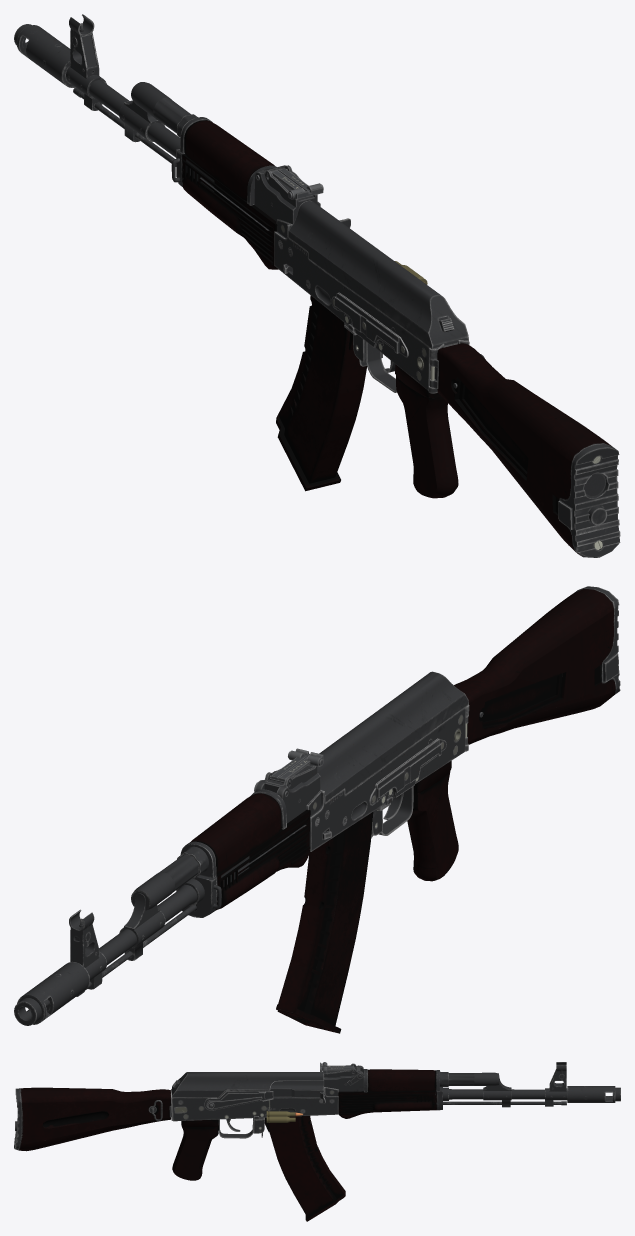
3 renders of one model, top to bottom at view 1: azimuth 30°, elevation 25°; view 2: azimuth 150°, elevation 25°; view 3: azimuth 270°, elevation 25°, orthographic. The views are drawn at different scales.
Visible parts, largest first — view 1: Stock_lowT, Magazine_lowT, ReceiverCover_lowT, Handle_lowT, Receiver_lowT, GasOutletPipe_lowT, Forend_lowT, Barrel2_lowT, IronsightFront_lowT, Barrel1_lowT, Forend1_lowT, SightBlock_lowT (+4 smaller); view 2: Stock_lowT, Magazine_lowT, ReceiverCover_lowT, Receiver_lowT, GasOutletPipe_lowT, Handle_lowT, Forend_lowT, Barrel2_lowT, Barrel1_lowT, Forend1_lowT, SightBlock_lowT, IronsightFront_lowT (+5 smaller); view 3: Stock_lowT, Magazine_lowT, Receiver_lowT, ReceiverCover_lowT, Forend_lowT, Handle_lowT, GasOutletPipe_lowT, Barrel2_lowT, Forend1_lowT, Shutter_lowT, Barrel1_lowT, ModeSwitch_lowT (+5 smaller).
Part boxes in pixels (<box>): Stock_lowT: <box>437,343,620,557</box>; Magazine_lowT: <box>276,295,366,491</box>; ReceiverCover_lowT: <box>288,200,468,349</box>; Handle_lowT: <box>395,364,458,498</box>; Receiver_lowT: <box>274,219,457,390</box>; GasOutletPipe_lowT: <box>177,114,277,205</box>; Forend_lowT: <box>176,149,278,269</box>; Barrel2_lowT: <box>119,82,190,142</box>; IronsightFront_lowT: <box>66,14,106,110</box>; Barrel1_lowT: <box>14,24,75,87</box>; Forend1_lowT: <box>182,159,273,264</box>; SightBlock_lowT: <box>254,165,320,224</box>; Stock_lowT: <box>454,586,620,744</box>; Magazine_lowT: <box>276,812,373,1033</box>; ReceiverCover_lowT: <box>308,671,468,803</box>; Receiver_lowT: <box>306,707,465,851</box>; GasOutletPipe_lowT: <box>177,789,286,878</box>; Handle_lowT: <box>407,761,458,881</box>; Forend_lowT: <box>176,810,310,917</box>; Barrel2_lowT: <box>119,854,198,960</box>; Barrel1_lowT: <box>14,961,89,1025</box>; Forend1_lowT: <box>218,817,310,903</box>; SightBlock_lowT: <box>255,765,320,823</box>; IronsightFront_lowT: <box>69,909,106,989</box>; Stock_lowT: <box>14,1087,171,1151</box>; Magazine_lowT: <box>264,1116,345,1221</box>; Receiver_lowT: <box>172,1087,338,1121</box>; ReceiverCover_lowT: <box>172,1072,323,1098</box>; Forend_lowT: <box>338,1087,448,1118</box>; Handle_lowT: <box>172,1119,218,1180</box>; GasOutletPipe_lowT: <box>364,1069,448,1092</box>; Barrel2_lowT: <box>448,1072,511,1107</box>; Forend1_lowT: <box>340,1094,435,1114</box>; Shutter_lowT: <box>270,1081,325,1103</box>; Barrel1_lowT: <box>567,1086,620,1102</box>; ModeSwitch_lowT: <box>204,1091,273,1110</box>.
Size of the model in its own units: 0.0865 by 0.2638 by 0.9428.
Materials: 1 (1 with a texture image).
